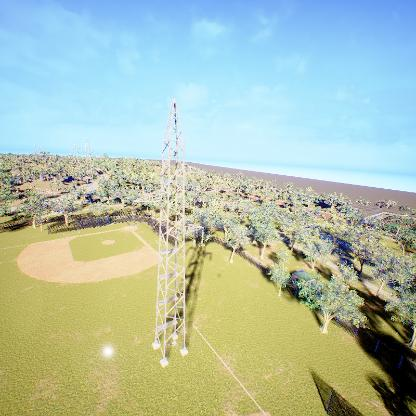tower: (144, 101, 206, 366)
